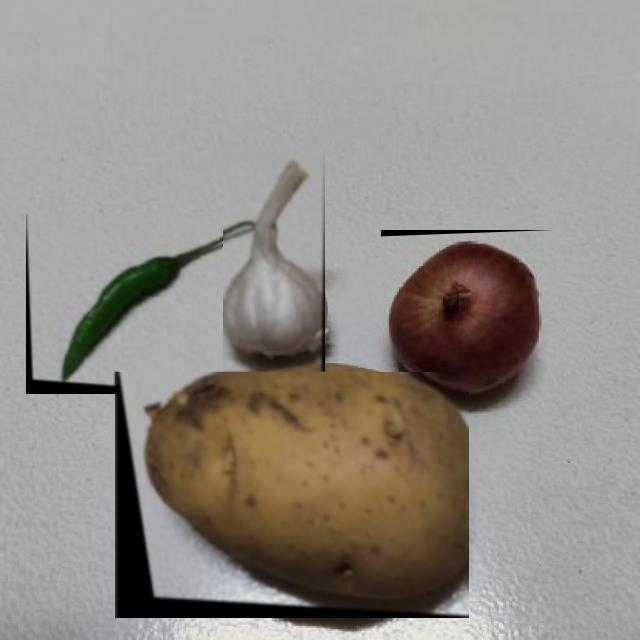Pepper: (26, 214, 222, 394)
garlic: (223, 146, 325, 377)
onion: (381, 230, 553, 398)
potato: (114, 372, 468, 618)
